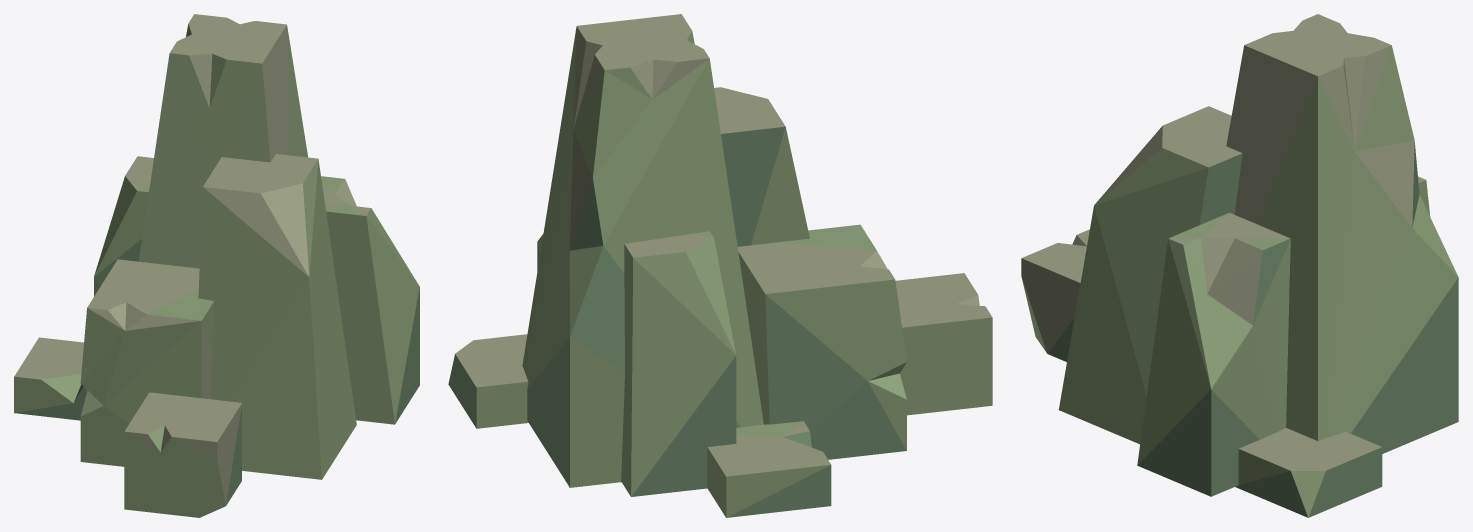
Rendered from piedra 3.fbx.
The picture shows the model from 3 angles, left to right: view 1: azimuth 30°, elevation 25°; view 2: azimuth 150°, elevation 25°; view 3: azimuth 270°, elevation 25°; orthographic projection. The views are drawn at different scales.
Parts seen in each view (by area): view 1: rock_02; view 2: rock_02; view 3: rock_02.
Boxes of the visible parts, <box> form: rock_02: <box>14,14,419,517</box>; rock_02: <box>448,14,992,517</box>; rock_02: <box>1021,14,1458,517</box>.
Bounding box in the file's own units: 361 × 314 × 328.
